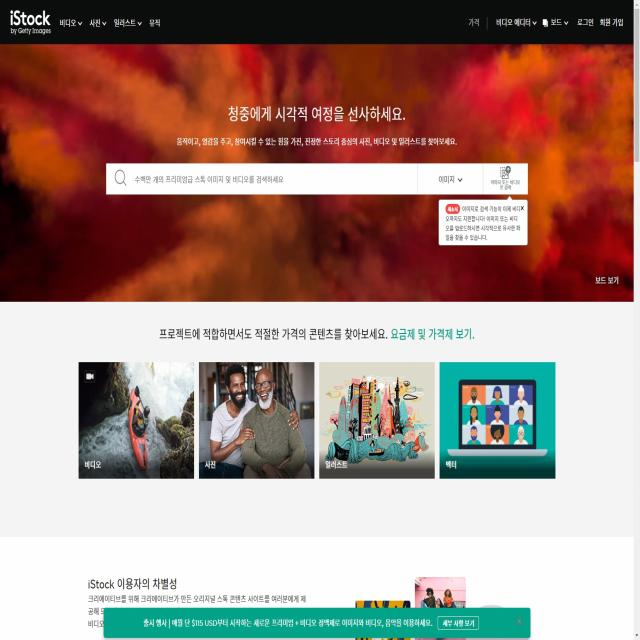menu-bar: (460, 9, 628, 33), (53, 12, 169, 34)
search: (104, 161, 529, 197)
